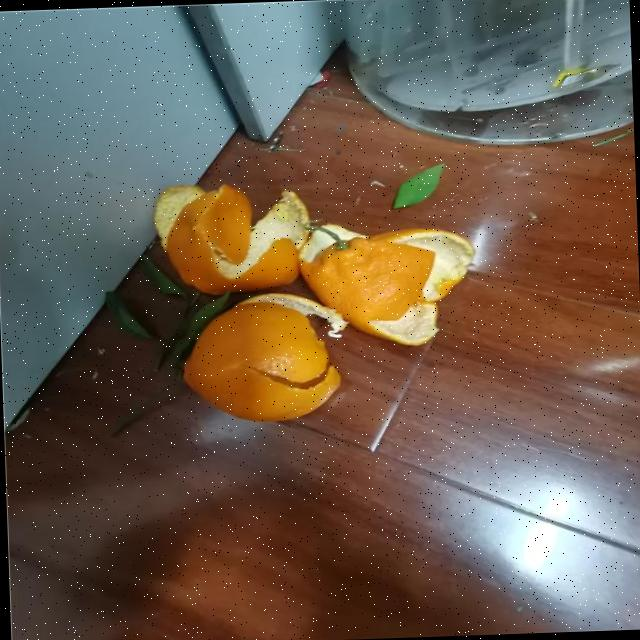orange-peel: (178, 295, 344, 425), (296, 219, 440, 349), (161, 178, 306, 296)
